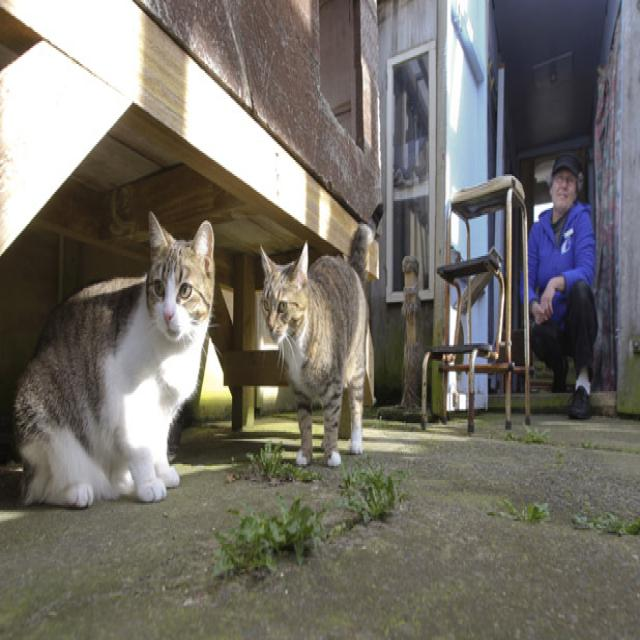cat: (15, 212, 215, 507), (261, 206, 381, 467)
